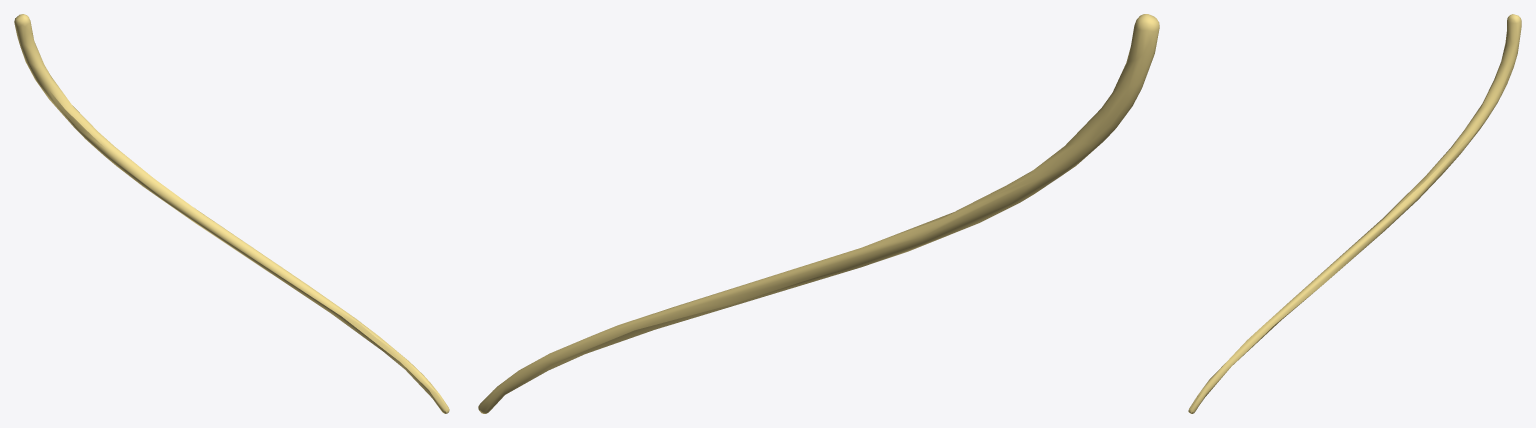
Rendered from fma53076_fj3997.glb.
The picture shows the model from 3 angles, left to right: view 1: azimuth 30°, elevation 25°; view 2: azimuth 210°, elevation 25°; view 3: azimuth 270°, elevation 25°; orthographic projection. The views are drawn at different scales.
Visible parts, largest first — view 1: FMA53076_FJ3997; view 2: FMA53076_FJ3997; view 3: FMA53076_FJ3997.
Boxes of the visible parts, left/top/right/bottom form: FMA53076_FJ3997: left=14, top=14, right=449, bottom=413; FMA53076_FJ3997: left=478, top=14, right=1159, bottom=413; FMA53076_FJ3997: left=1188, top=14, right=1521, bottom=413.
Size of the model in its own units: 0.0104 by 0.0128 by 0.0132.
